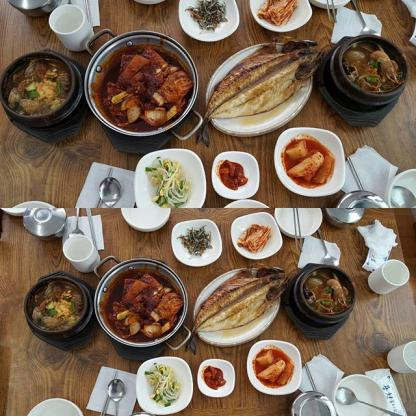Peixe: (187, 265, 285, 353), (215, 39, 316, 122)
